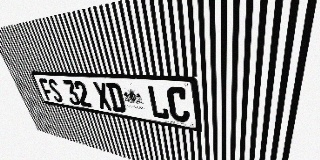2: (73, 80, 92, 108)
3: (62, 80, 81, 106)
C: (166, 86, 190, 123)
D: (105, 82, 127, 113)
F: (38, 78, 55, 102)
L: (146, 85, 170, 120)
S: (46, 79, 64, 103)
X: (92, 82, 113, 111)
